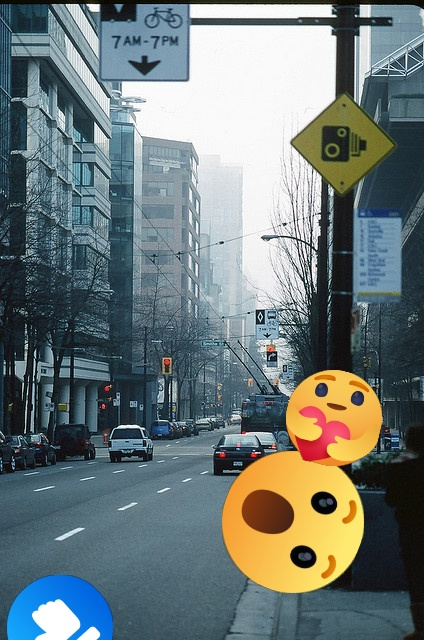care: (286, 370, 382, 466)
like: (7, 575, 113, 640)
wow: (222, 451, 364, 593)
